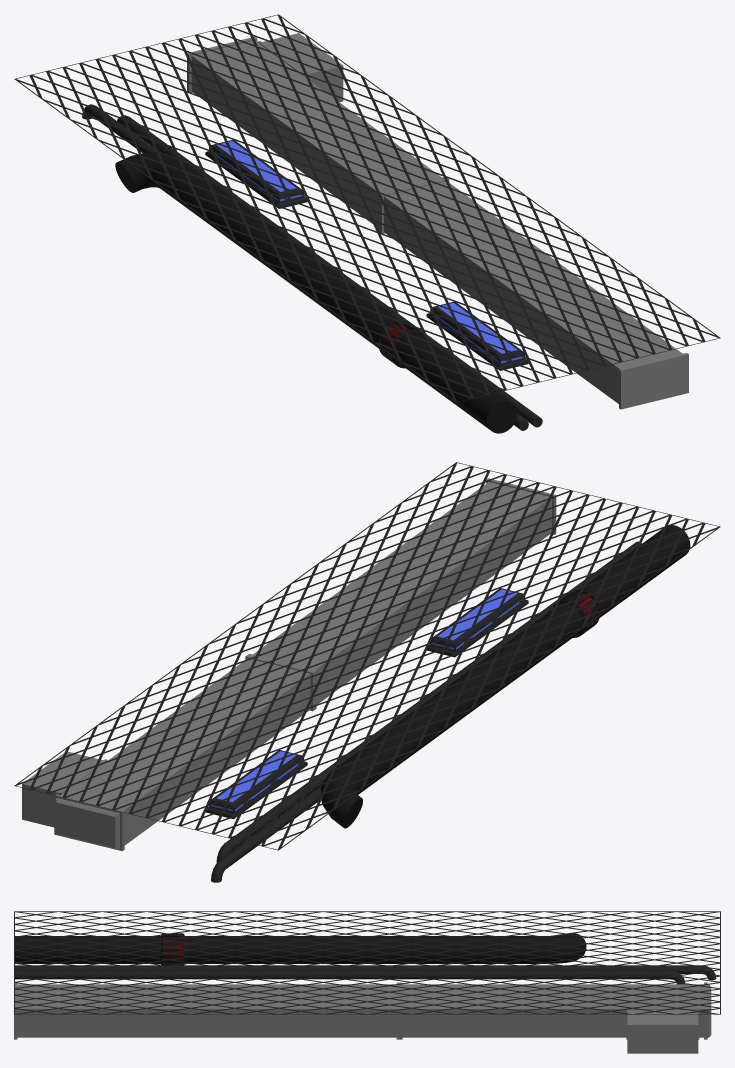
Rendered from Floor_Grate + Pipes_End.fbx.
3 renders of one model, top to bottom at view 1: azimuth 30°, elevation 25°; view 2: azimuth 150°, elevation 25°; view 3: azimuth 270°, elevation 25°, orthographic. The views are drawn at different scales.
Parts seen in each view (by area): view 1: hallway pipes; view 2: hallway pipes; view 3: hallway pipes.
Part boxes in pixels (<box>): hallway pipes: <box>14,14,720,433</box>; hallway pipes: <box>14,462,720,882</box>; hallway pipes: <box>14,911,720,1053</box>.
Bounding box in the file's own units: 141 × 25.59 × 400.
